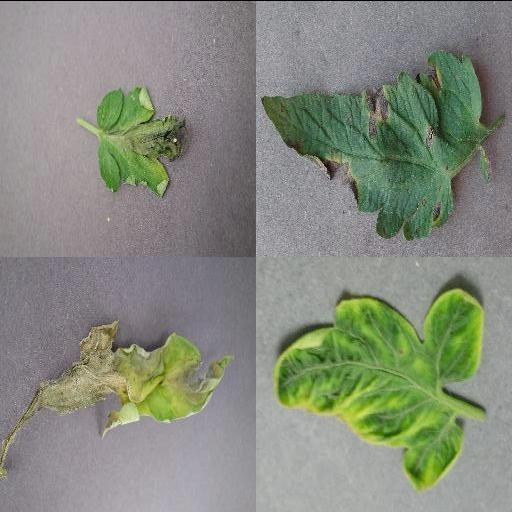Early Blight: (259, 50, 489, 235)
Late Blight: (0, 318, 234, 478), (96, 81, 192, 195)
Yellow Leaf Curl Virus: (272, 285, 484, 493)
